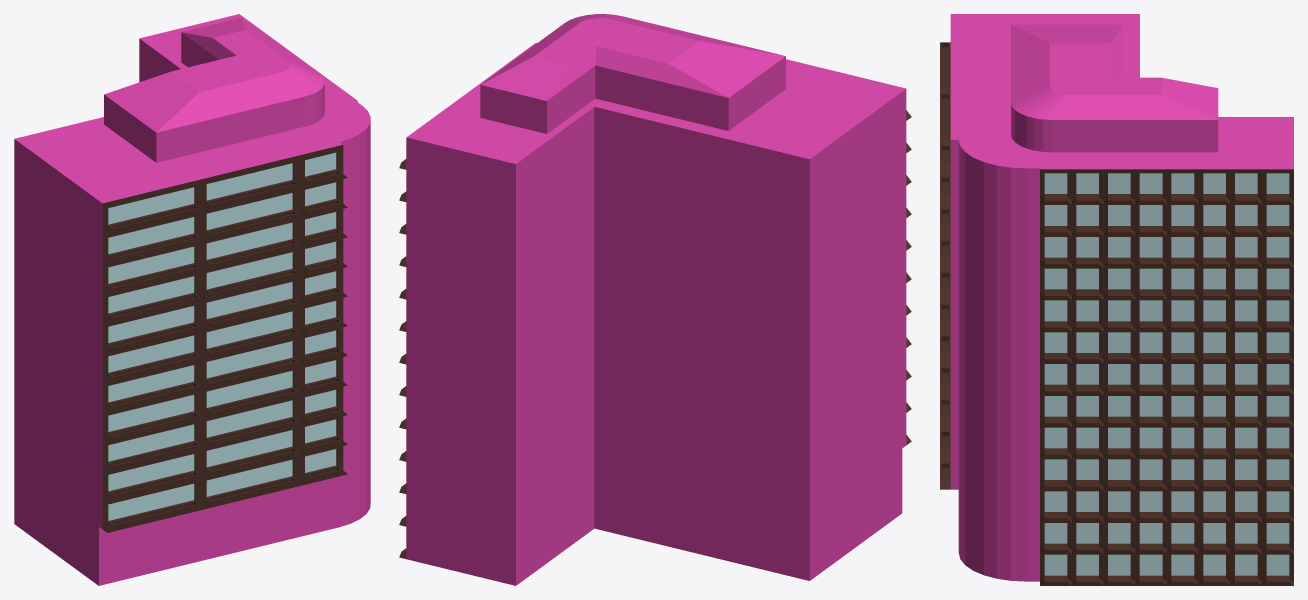
File: Big Boi Pink.fbx
3 renders of one model, left to right at view 1: azimuth 30°, elevation 25°; view 2: azimuth 150°, elevation 25°; view 3: azimuth 270°, elevation 25°, orthographic. The views are drawn at different scales.
Parts seen in each view (by area): view 1: Cube.004; view 2: Cube.004; view 3: Cube.004.
Boxes of the visible parts, box(x1,y1,x2,y2) form: Cube.004: box(14, 14, 370, 585); Cube.004: box(399, 14, 911, 585); Cube.004: box(940, 14, 1293, 585).
Bounding box in the file's own units: 6221 × 8379 × 5856.
